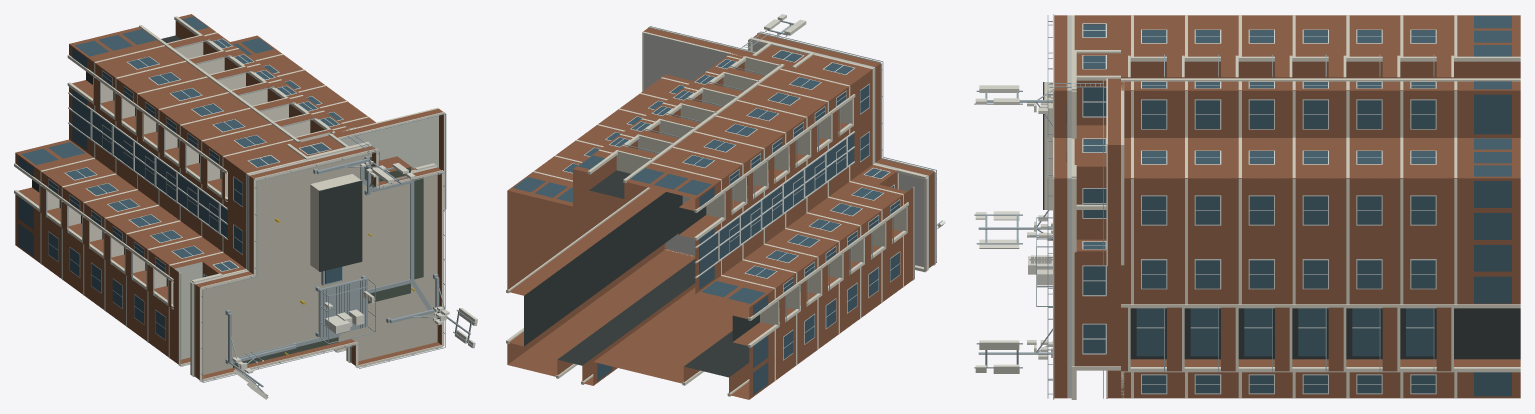
Rendered from 5166-tadworth-house.obj.
3 views of the same model, side by side, from view 1: azimuth 30°, elevation 25°; view 2: azimuth 150°, elevation 25°; view 3: azimuth 270°, elevation 25° (orthographic). The views are drawn at different scales.
Visible parts, largest first — view 1: existing_roof, facade_2, facade_9, facade_0, facade_1, plant_room_roof, facade_4, northeast_eighth_floor_terrace, stair_glazing, balcony_slab_2, walkway_matting, window_glass_2 (+49 smaller); view 2: facade_2, balcony_recess_5, facade_5, facade_9, facade_8, facade_0, facade_6, facade_1, facade_4, balcony_recess_6, balcony_slab_2, northeast_eighth_floor_terrace (+57 smaller); view 3: facade_5, facade_2, facade_4, facade_3, window_glass_5, balcony_door_5, balcony_recess_5, balcony_parapet_5, balcony_return_2, ground_glazing_5, window_glass_3, floor_band_5 (+43 smaller).
Boxes of the visible parts, box(x1,y1,x2,y2) form: existing_roof: box(202, 152, 437, 374); facade_2: box(69, 14, 349, 159); facade_9: box(15, 153, 173, 360); facade_0: box(15, 139, 227, 268); facade_1: box(69, 44, 227, 255); plant_room_roof: box(319, 180, 362, 271); facade_4: box(230, 35, 375, 128); northeast_eighth_floor_terrace: box(350, 115, 438, 167); stair_glazing: box(72, 108, 227, 238); balcony_slab_2: box(167, 41, 330, 142); walkway_matting: box(233, 157, 423, 367); window_glass_2: box(128, 39, 338, 147); facade_2: box(573, 53, 853, 198); balcony_recess_5: box(524, 192, 682, 345); facade_5: box(507, 186, 665, 364); facade_9: box(749, 192, 907, 399); facade_8: box(594, 287, 749, 399); facade_0: box(696, 178, 907, 307); facade_6: box(508, 249, 695, 385); facade_1: box(695, 83, 853, 293); facade_4: box(507, 74, 692, 206); balcony_recess_6: box(558, 259, 695, 365); balcony_slab_2: box(616, 57, 780, 173); northeast_eighth_floor_terrace: box(643, 32, 729, 90); facade_5: box(1121, 178, 1520, 398); facade_2: box(1121, 15, 1520, 90); facade_4: box(1124, 138, 1520, 178); facade_3: box(1124, 90, 1520, 137); window_glass_5: box(1142, 196, 1435, 393); balcony_door_5: box(1136, 308, 1434, 356); balcony_recess_5: box(1130, 308, 1520, 359); balcony_parapet_5: box(1121, 307, 1451, 371); balcony_return_2: box(1121, 61, 1520, 78); ground_glazing_5: box(1474, 181, 1511, 396); window_glass_3: box(1142, 100, 1435, 128); floor_band_5: box(1131, 178, 1457, 398).
Size of the model in its own units: 22473 by 17506 by 31450.
